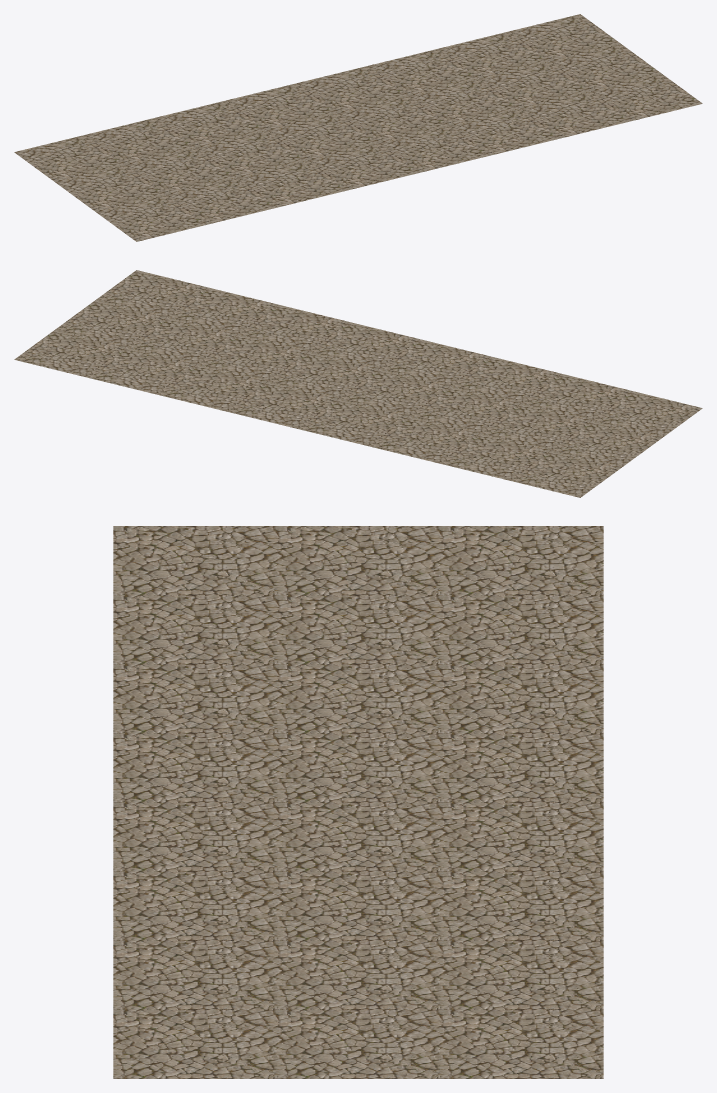
The model's file is Tile4.fbx.
The picture shows the model from 3 angles, top to bottom: view 1: azimuth 30°, elevation 25°; view 2: azimuth 150°, elevation 25°; view 3: azimuth 270°, elevation 25°; orthographic projection. The views are drawn at different scales.
Visible parts, largest first — view 1: Lobby_Plane.001; view 2: Lobby_Plane.001; view 3: Lobby_Plane.001.
Part boxes in pixels (box(x1,y1,x2,y2)): Lobby_Plane.001: box(14, 14, 702, 241); Lobby_Plane.001: box(14, 270, 702, 497); Lobby_Plane.001: box(113, 526, 603, 1078).
Size of the model in its own units: 8 by 9.58e-07 by 3.
